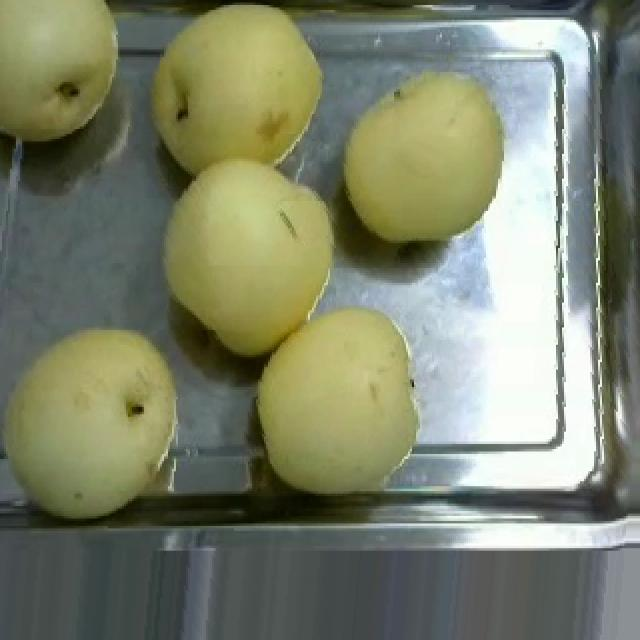Fruit: (150, 148, 346, 370), (0, 307, 192, 528), (244, 295, 430, 504), (136, 0, 336, 189), (332, 57, 514, 251), (0, 0, 128, 154)
